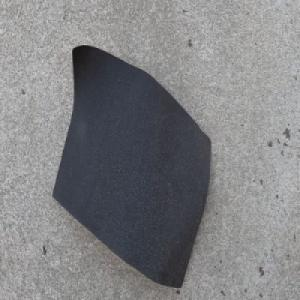PaintChip: (51, 44, 212, 290)
